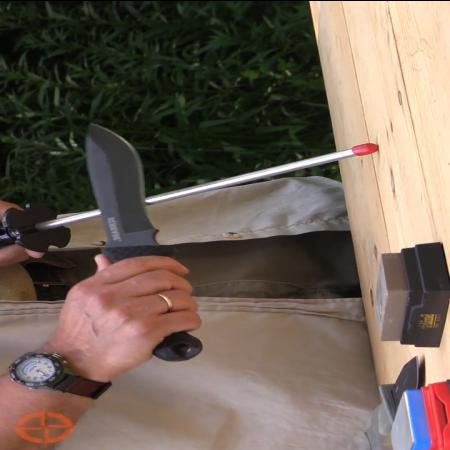long weapon: (75, 115, 207, 367)
